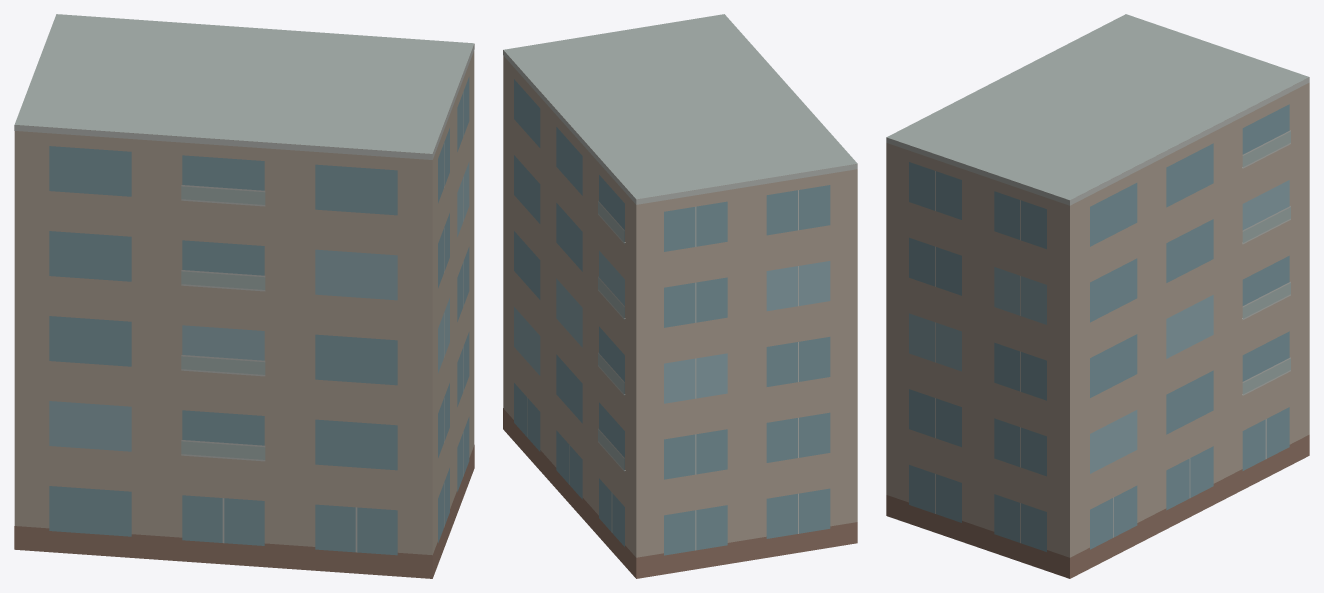
The model's file is survey-upis-32855264.glb.
3 renders of one model, left to right at view 1: azimuth 30°, elevation 25°; view 2: azimuth 150°, elevation 25°; view 3: azimuth 270°, elevation 25°, orthographic. The views are drawn at different scales.
Parts seen in each view (by area): view 1: survey-upis-32855264.tmp; view 2: survey-upis-32855264.tmp; view 3: survey-upis-32855264.tmp.
Part boxes in pixels (<box>): survey-upis-32855264.tmp: <box>14,14,474,578</box>; survey-upis-32855264.tmp: <box>503,14,857,578</box>; survey-upis-32855264.tmp: <box>886,14,1309,578</box>.
Bounding box in the file's own units: 17.94 × 16.99 × 17.22.
